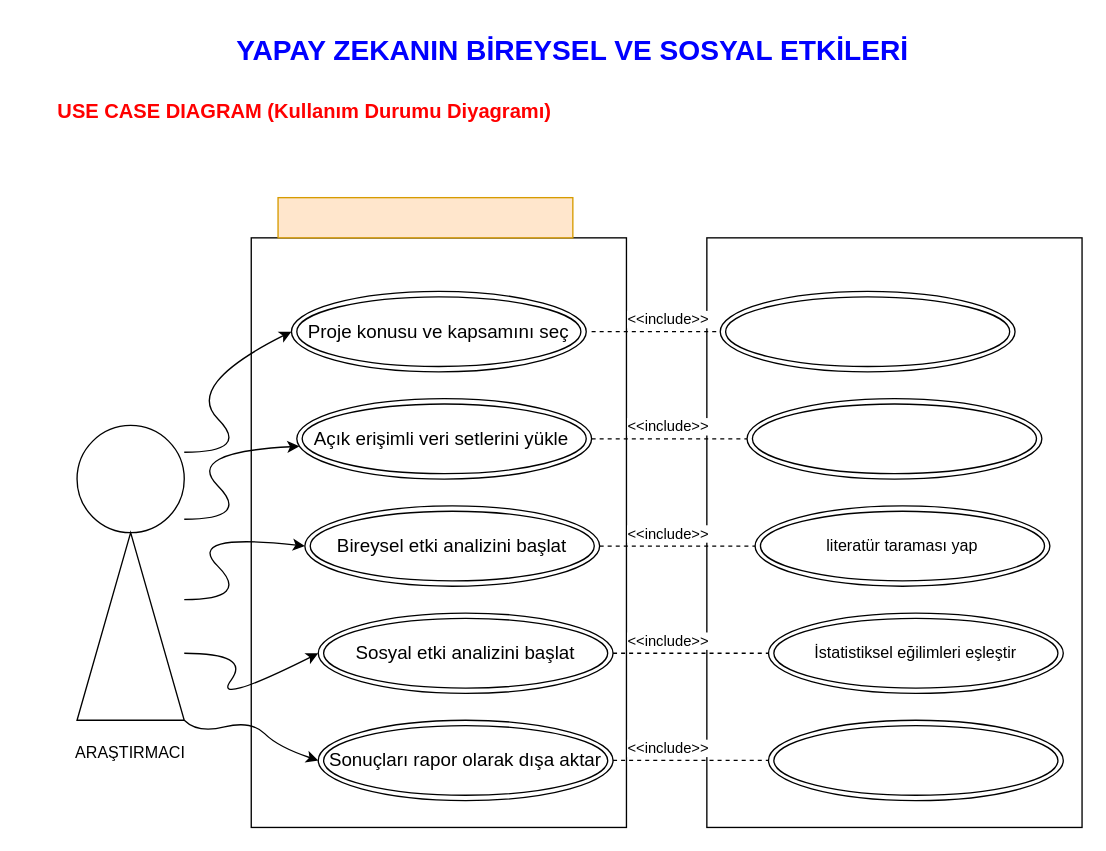
Some shapes in this 1106 by 851 pixel diagram are drawn without their labels. The centre of each missing label's shape, as x and y in pixels:
grafik ve tablo oluştur: point (915, 760)
kaynak dosya formatını doğrula: point (894, 438)
Literatür araştırma planı oluştur: point (867, 331)
YAPAY ZEKA ETKİ ANALİZİ SİSTEMİ: point (425, 217)
